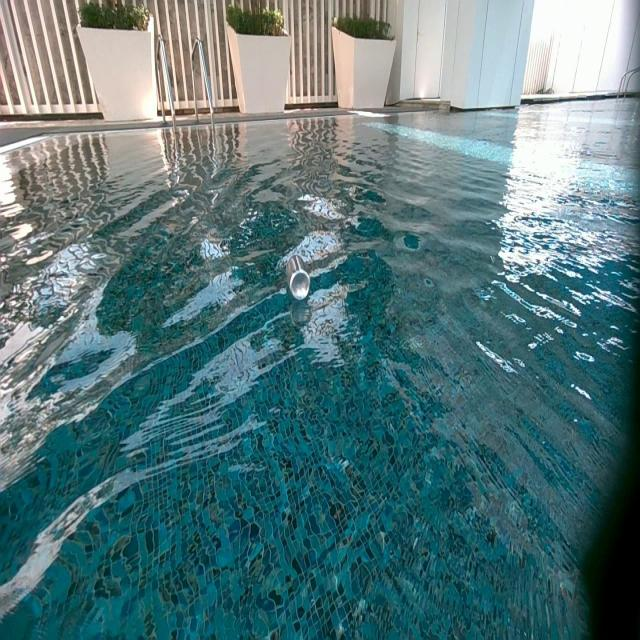Cans: (286, 255, 311, 303)
